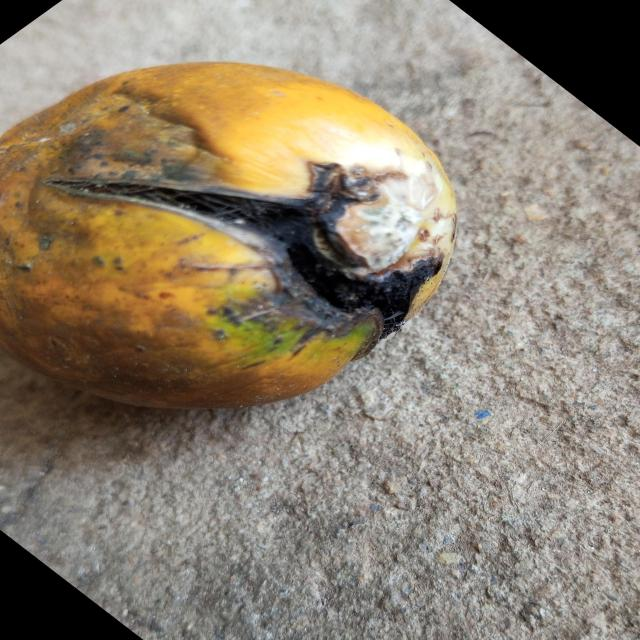damaged: (0, 61, 459, 412)
